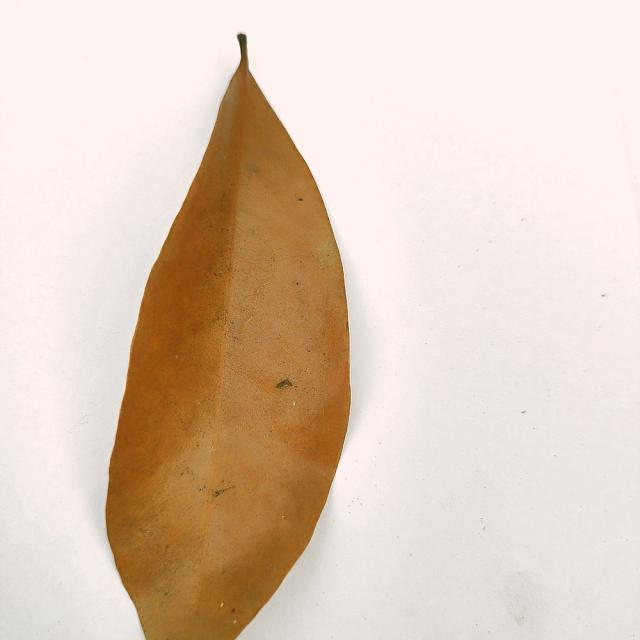Dry_Leaf-Lychee: (104, 35, 352, 639)
